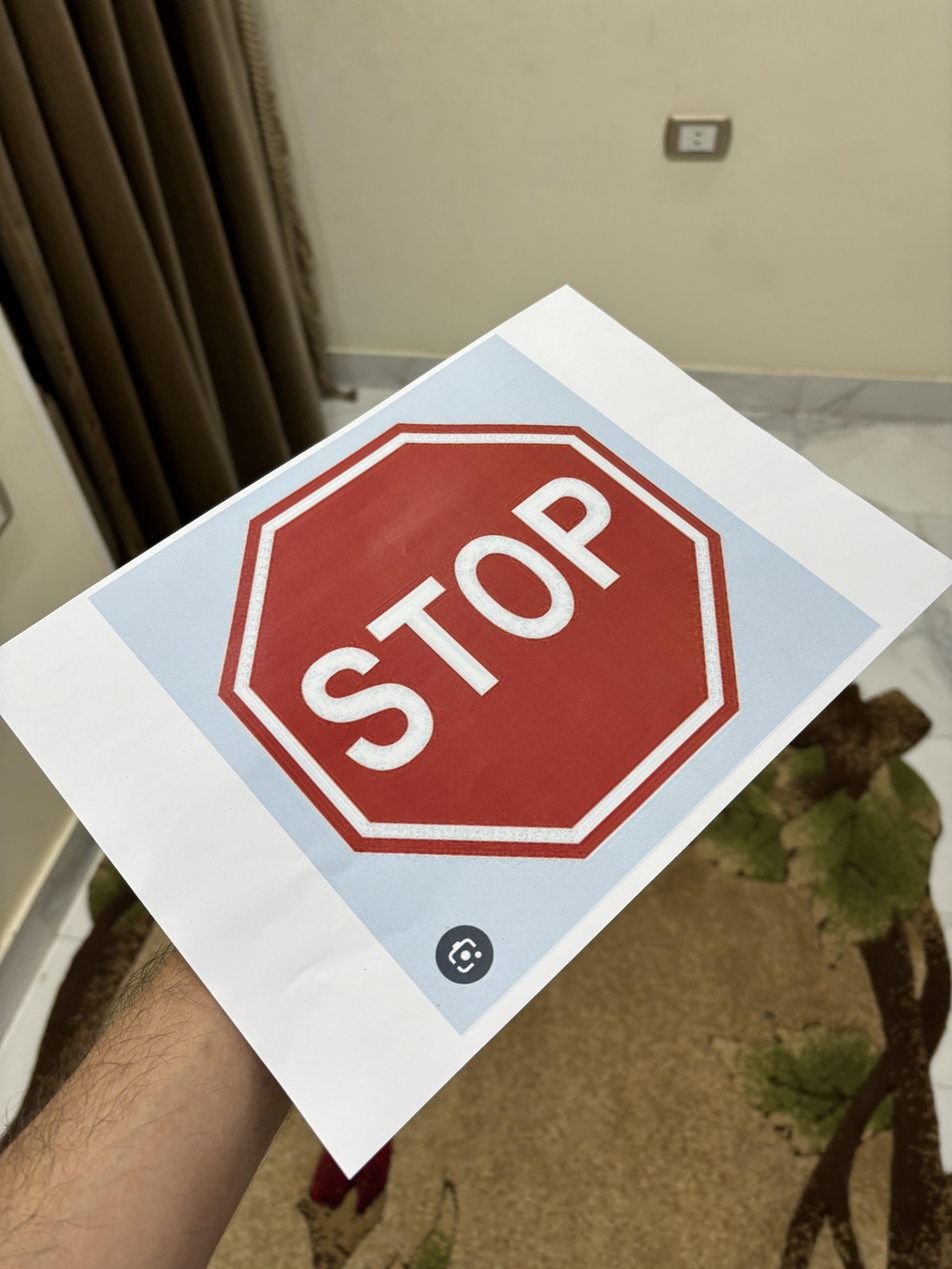Stop: (225, 409, 753, 870)
